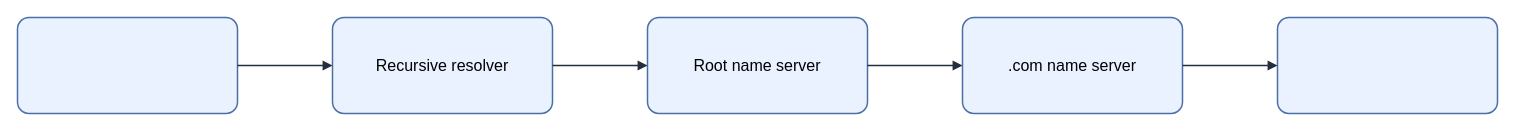
This 1516x132 diagram has some shape labels left out. Each missing label, with the centre of its shape:
"Authoritative server" belongs at point 1387,65.
"Browser or stub" belongs at point 127,65.
